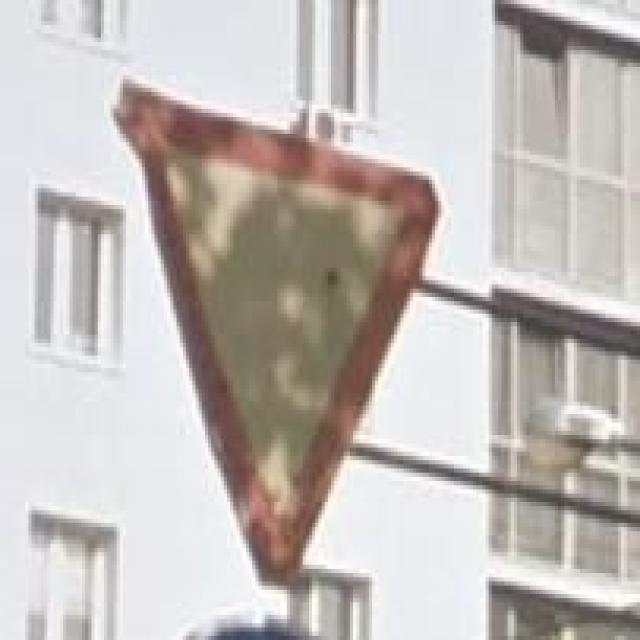give_way: (114, 79, 438, 594)
